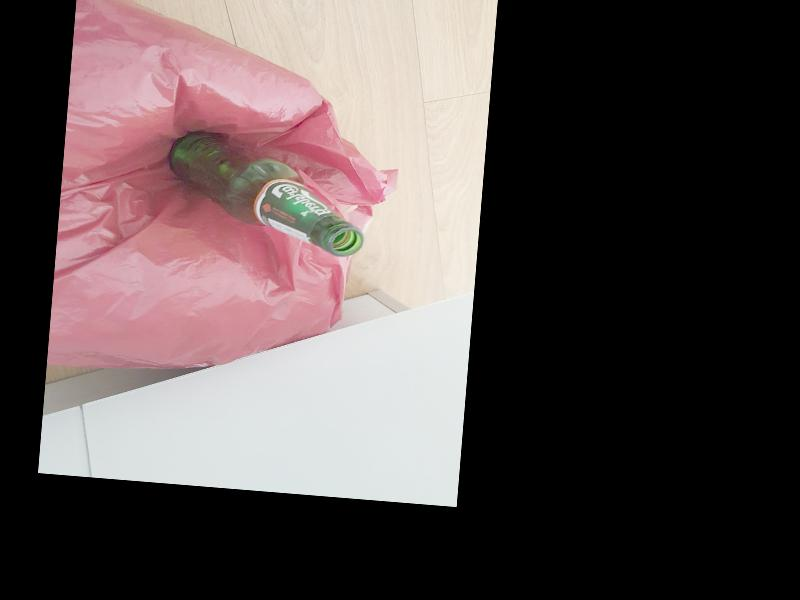Beer: (165, 127, 372, 257)
